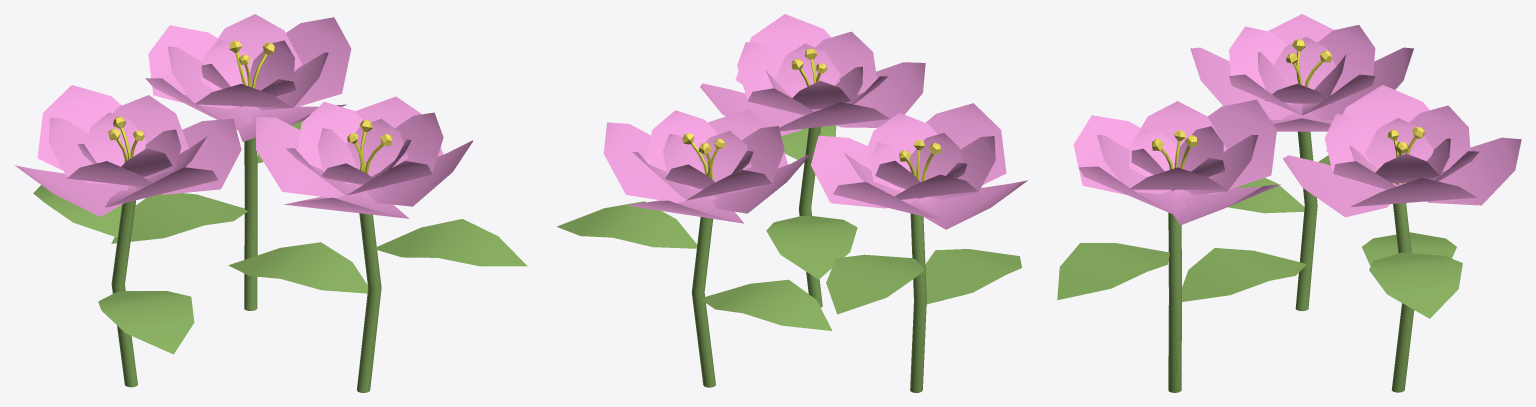
File: flowers01_pink.fbx
3 views of the same model, side by side, from view 1: azimuth 30°, elevation 25°; view 2: azimuth 150°, elevation 25°; view 3: azimuth 270°, elevation 25° (orthographic). The views are drawn at different scales.
Visible parts, largest first — view 1: flowers01_pink; view 2: flowers01_pink; view 3: flowers01_pink.
Boxes of the visible parts, x1,y1,x2,y2 form: flowers01_pink: (15, 14, 527, 392); flowers01_pink: (557, 14, 1027, 392); flowers01_pink: (1057, 14, 1521, 392).
Bounding box in the file's own units: 1.77 × 1.05 × 1.7.
1 material, 1 textured.
